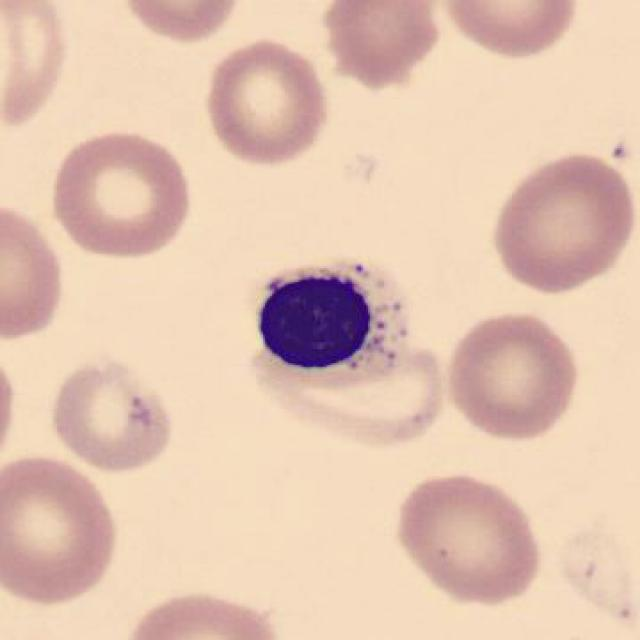RBC: (246, 326, 452, 455), (486, 148, 638, 296), (390, 469, 548, 610), (44, 127, 196, 263), (0, 449, 126, 612), (439, 307, 583, 444), (198, 35, 334, 171), (44, 354, 178, 478), (547, 486, 640, 634), (318, 2, 444, 86), (0, 195, 69, 345), (0, 2, 76, 134), (439, 0, 581, 62), (118, 587, 284, 640), (115, 0, 244, 46), (0, 349, 21, 470)
